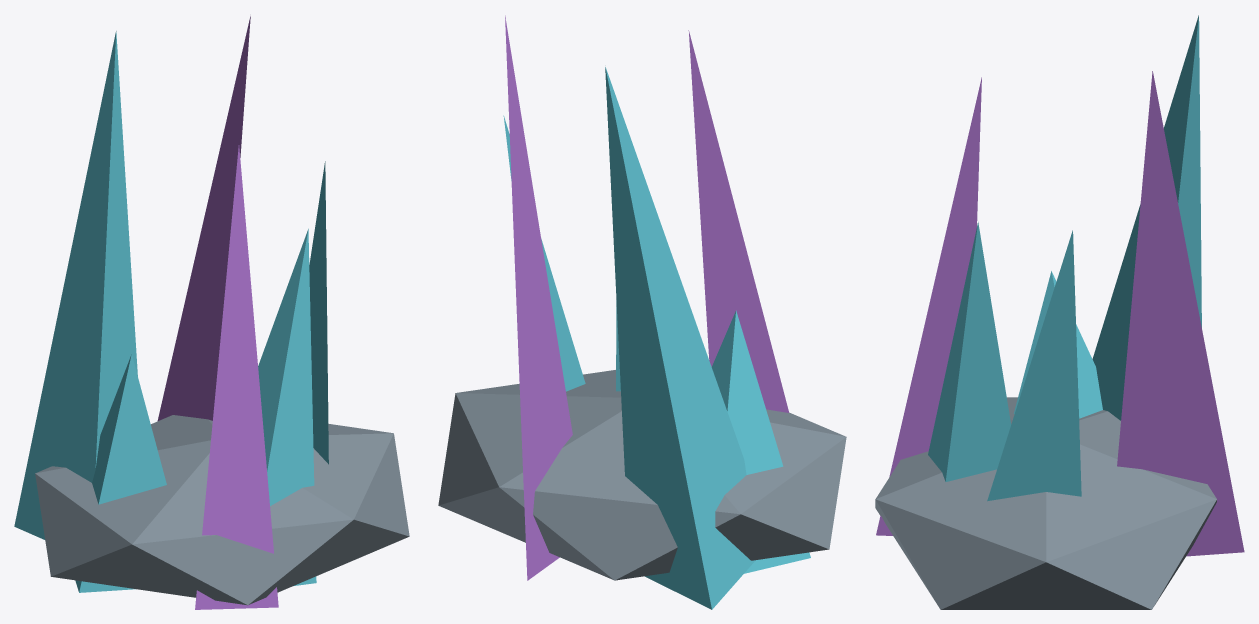
The model's file is Crystal_02_LOD1.fbx.
3 renders of one model, left to right at view 1: azimuth 30°, elevation 25°; view 2: azimuth 150°, elevation 25°; view 3: azimuth 270°, elevation 25°, orthographic. The views are drawn at different scales.
Visible parts, largest first — view 1: Crystal_02_LOD1; view 2: Crystal_02_LOD1; view 3: Crystal_02_LOD1.
Boxes of the visible parts, x1,y1,x2,y2 form: Crystal_02_LOD1: [14, 16, 409, 609]; Crystal_02_LOD1: [438, 15, 846, 609]; Crystal_02_LOD1: [875, 15, 1244, 609].
Size of the model in its own units: 161 by 226 by 138.
